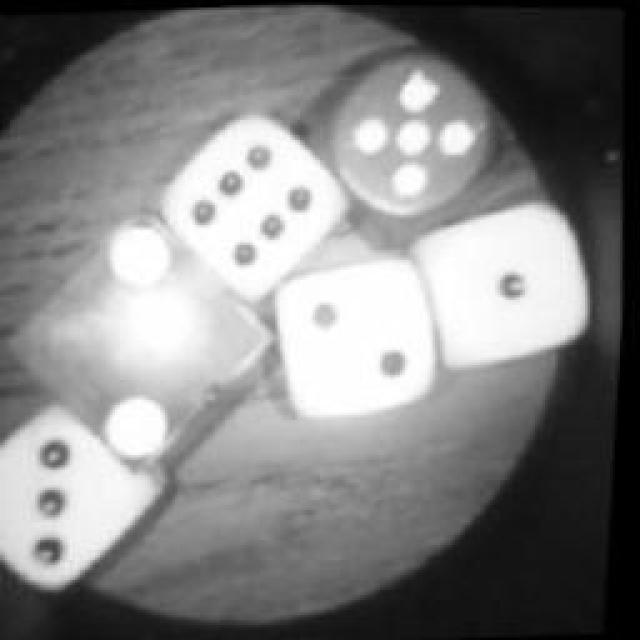dice_1: (415, 194, 605, 361)
dice_2: (5, 200, 295, 468), (271, 255, 444, 417)
dice_3: (0, 405, 178, 610)
dice_5: (321, 42, 504, 232)
dice_6: (162, 108, 356, 298)
